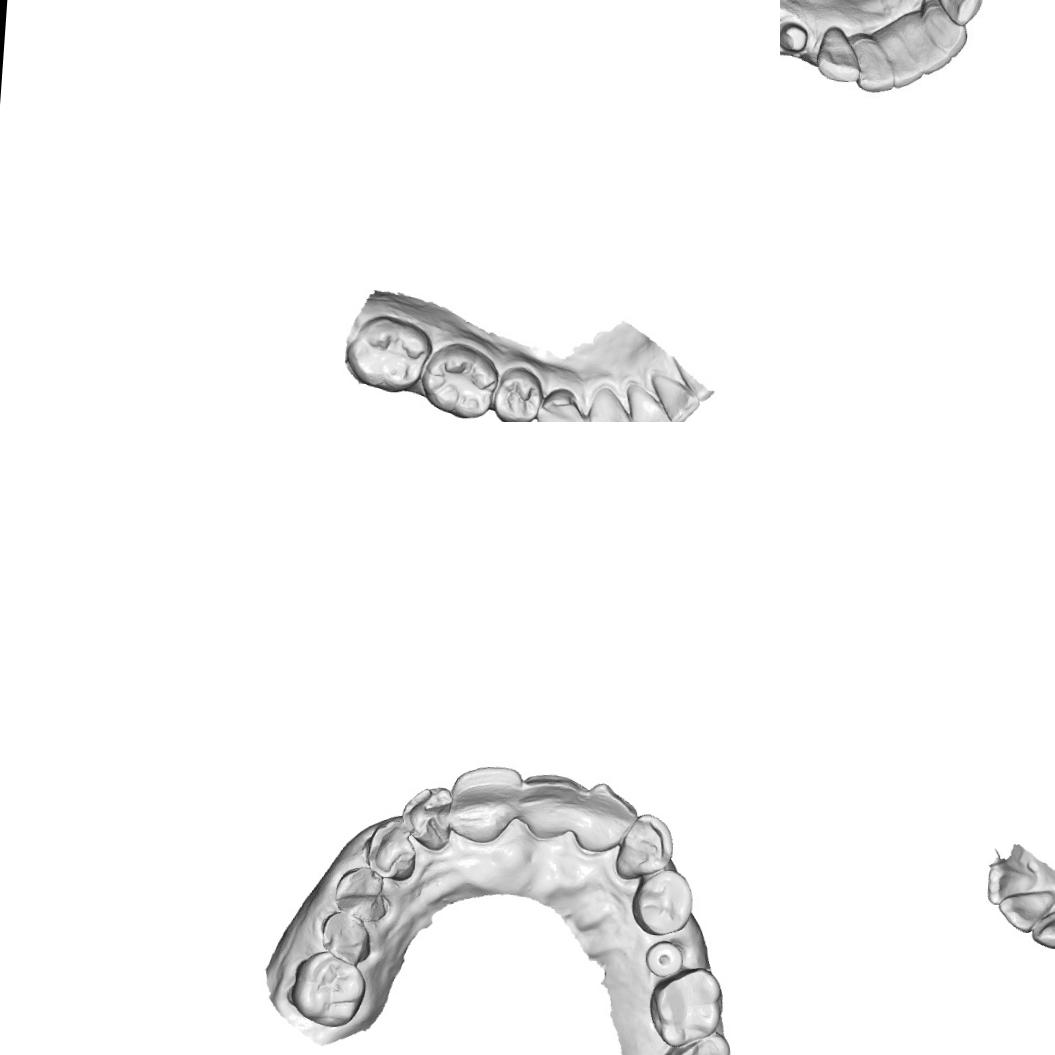abutment: (780, 18, 812, 54)
canine: (608, 809, 678, 883), (364, 815, 417, 880), (814, 22, 861, 82), (583, 384, 637, 422), (925, 0, 987, 26), (1028, 896, 1055, 953)
implant: (644, 940, 681, 976)
incisor: (446, 759, 526, 846), (515, 765, 592, 844), (570, 776, 640, 858), (397, 783, 460, 860), (916, 0, 979, 63), (902, 22, 952, 82), (994, 885, 1055, 934), (876, 27, 922, 90), (846, 38, 898, 93), (983, 859, 1040, 909), (622, 380, 679, 422), (660, 385, 700, 422)
molar: (340, 312, 434, 396), (644, 965, 727, 1051), (417, 340, 500, 422), (285, 950, 368, 1031), (314, 910, 372, 970), (650, 1029, 733, 1055)
premolar: (626, 866, 694, 938), (332, 858, 390, 927), (490, 364, 544, 422), (533, 385, 589, 422)
